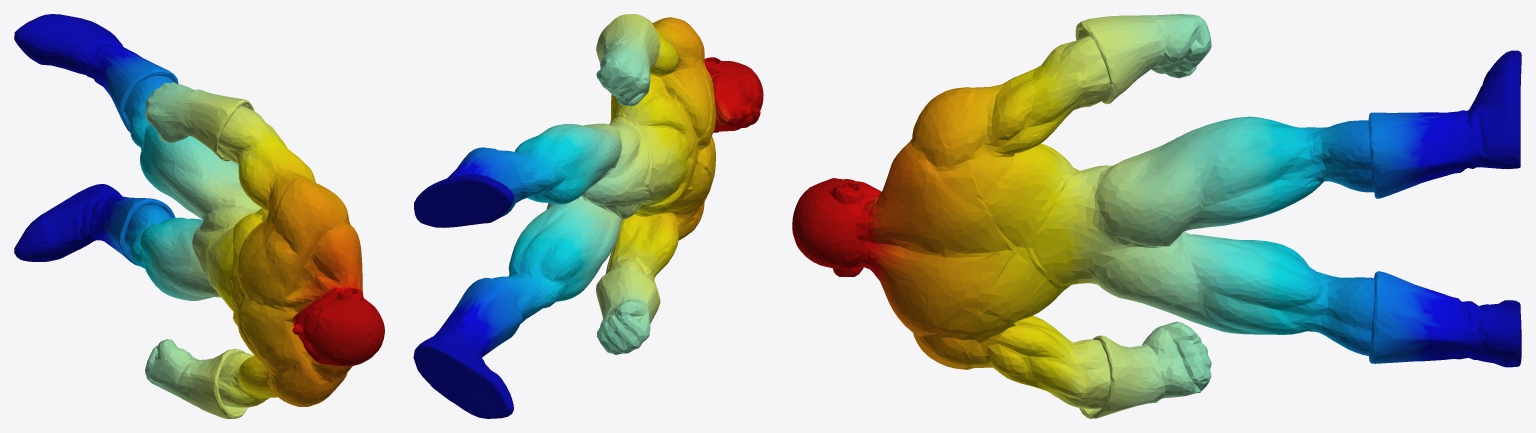
Rendered from jared_ours.glb.
3 renders of one model, left to right at view 1: azimuth 30°, elevation 25°; view 2: azimuth 150°, elevation 25°; view 3: azimuth 270°, elevation 25°, orthographic. The views are drawn at different scales.
Parts seen in each view (by area): view 1: jared_fixed.obj; view 2: jared_fixed.obj; view 3: jared_fixed.obj.
Part boxes in pixels (box(x1,y1,x2,y2)): jared_fixed.obj: box(14, 14, 384, 418); jared_fixed.obj: box(413, 14, 763, 418); jared_fixed.obj: box(792, 14, 1521, 418).
Bounding box in the file's own units: 0.4236 × 1.09 × 1.85.
